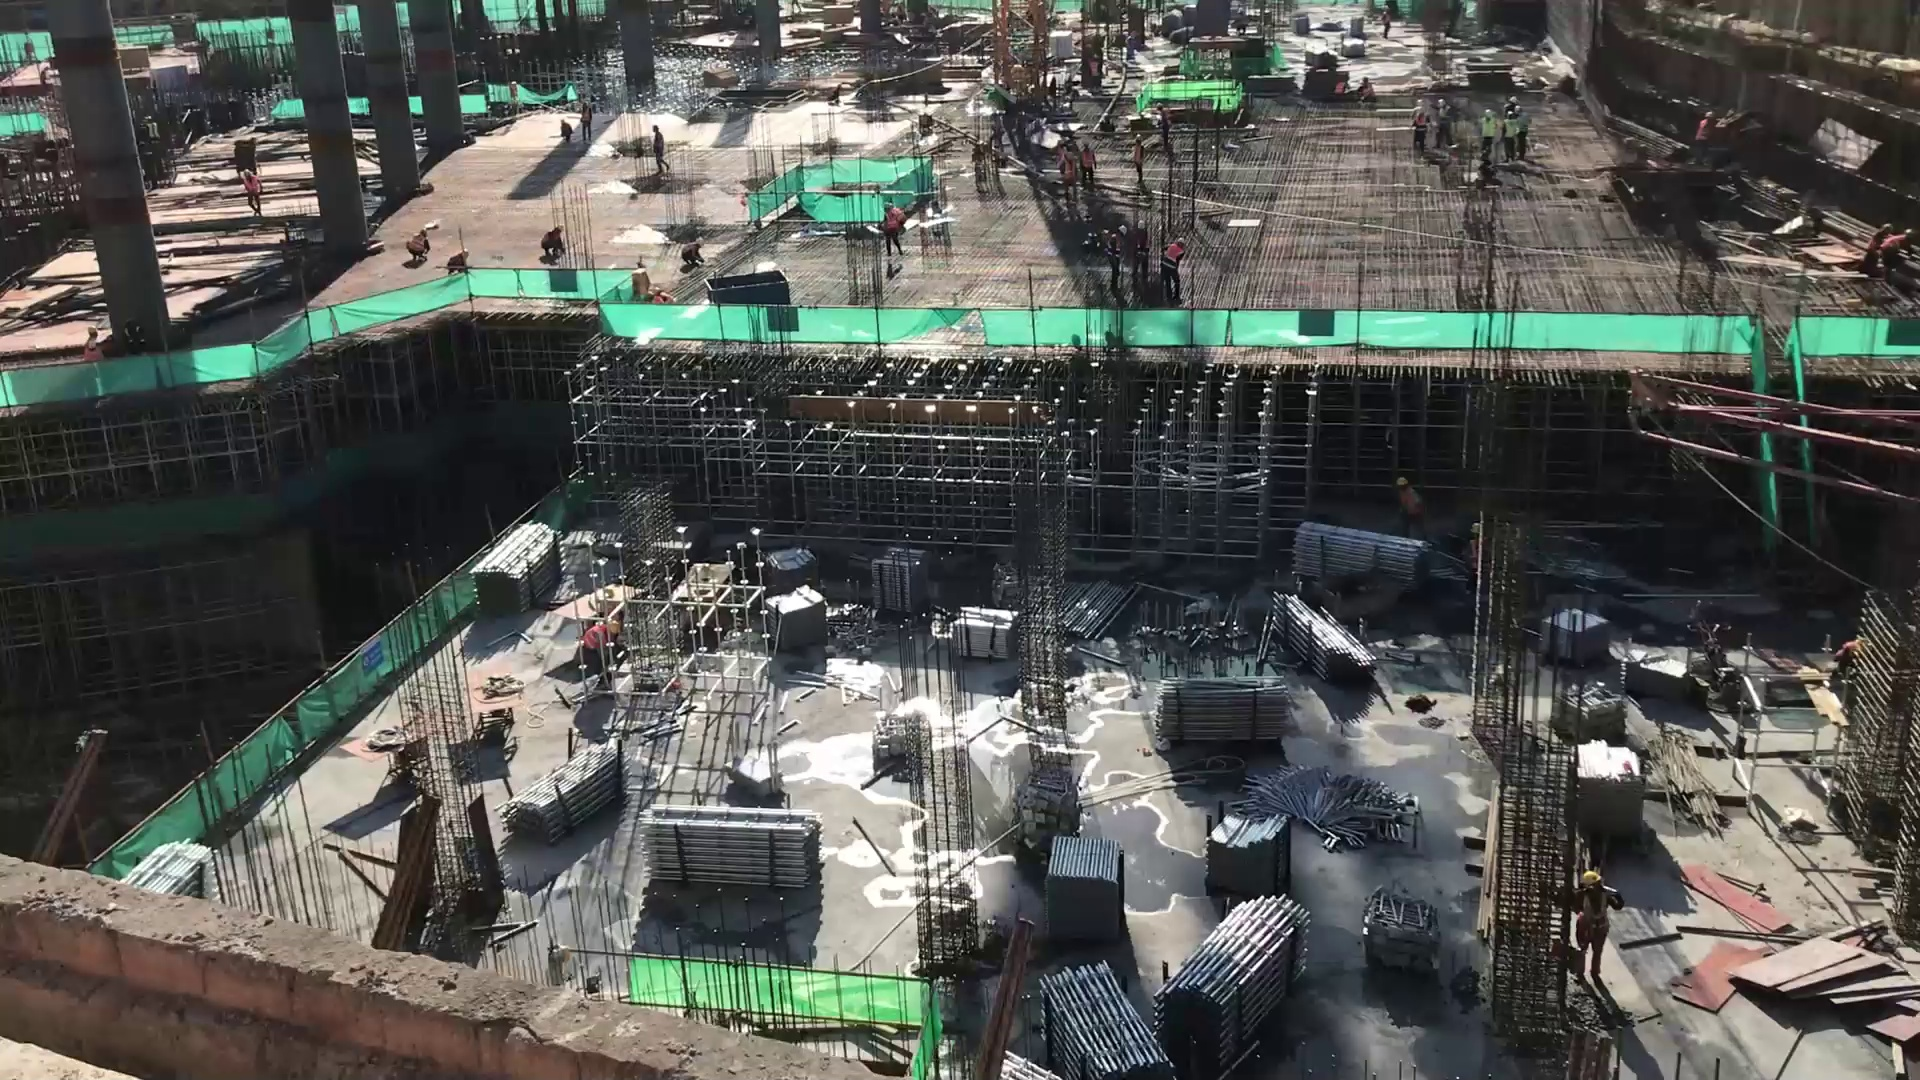board: (1739, 927, 1896, 1012)
helmet: (1578, 871, 1601, 886), (608, 619, 619, 634)
person: (1566, 867, 1624, 986), (579, 615, 624, 683), (1834, 632, 1872, 698), (1156, 232, 1185, 303), (1883, 223, 1914, 279), (237, 167, 270, 217), (1868, 219, 1893, 284), (1694, 108, 1718, 168), (881, 201, 904, 257), (646, 127, 673, 177), (540, 222, 571, 264), (407, 221, 432, 272), (1057, 150, 1080, 206), (81, 324, 110, 366), (1108, 220, 1125, 290), (447, 245, 477, 284), (1127, 131, 1147, 188), (1133, 217, 1147, 294), (1512, 108, 1532, 164), (1477, 107, 1497, 160), (1502, 110, 1518, 172), (1079, 141, 1098, 190), (681, 233, 708, 268), (1436, 98, 1453, 150), (577, 101, 598, 145), (1411, 97, 1427, 150), (554, 116, 574, 144), (1505, 93, 1518, 116)
scaffold: (1177, 893, 1312, 1068), (647, 804, 823, 897), (1043, 951, 1144, 1080), (1277, 587, 1385, 691), (1304, 512, 1439, 593), (1154, 670, 1304, 738), (517, 741, 632, 829), (1048, 835, 1125, 935), (1578, 739, 1648, 841), (1206, 813, 1290, 892), (480, 522, 560, 592), (1061, 578, 1137, 639), (764, 584, 826, 648), (870, 550, 927, 619), (951, 603, 1014, 657)
